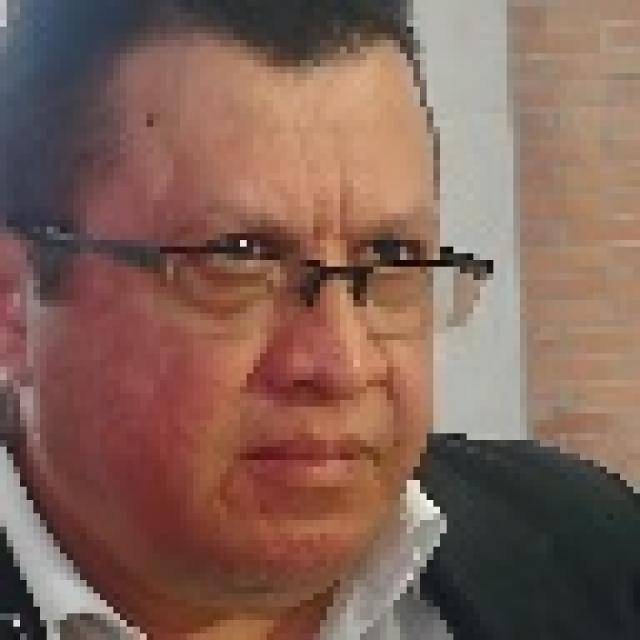angry: (13, 0, 446, 633)
